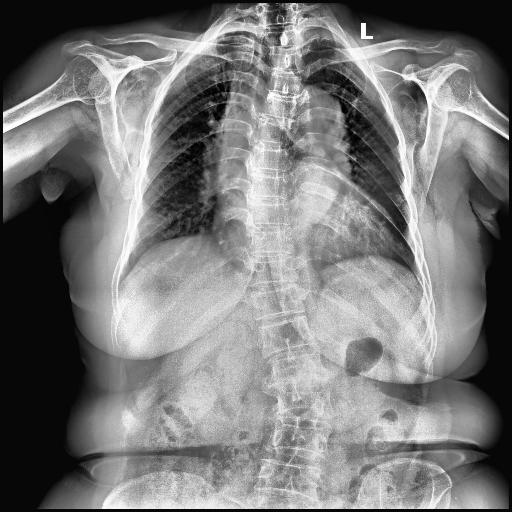0- Aortic enlargement: (277, 82, 353, 168), (278, 86, 348, 156), (288, 84, 349, 163)
11- Pleural thickening: (294, 20, 346, 46), (296, 26, 346, 52)
3- Cardiomegaly: (210, 186, 394, 266), (212, 202, 394, 280), (208, 189, 398, 260)
9- Other lesion: (250, 7, 300, 188)
